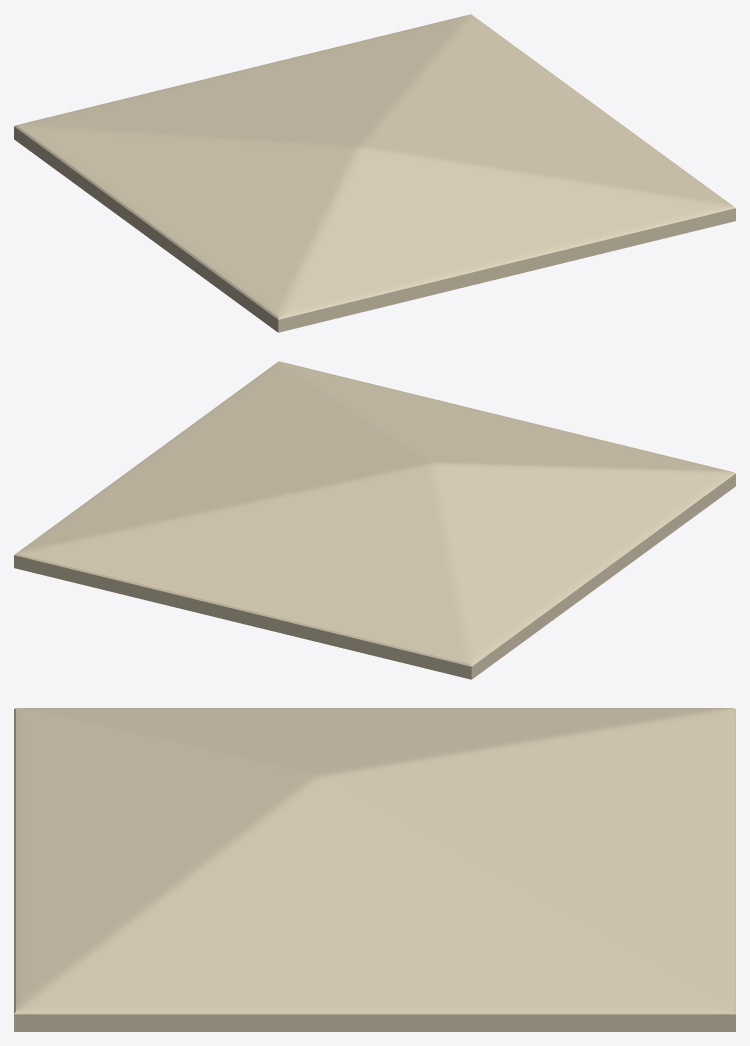
File: mahsulot.glb
3 renders of one model, top to bottom at view 1: azimuth 30°, elevation 25°; view 2: azimuth 150°, elevation 25°; view 3: azimuth 270°, elevation 25°, orthographic. The views are drawn at different scales.
Visible parts, largest first — view 1: mahsulot; view 2: mahsulot; view 3: mahsulot.
Part boxes in pixels (left/top/right/bottom): mahsulot: left=14, top=14, right=735, bottom=332; mahsulot: left=14, top=361, right=735, bottom=679; mahsulot: left=14, top=708, right=735, bottom=1031.
Size of the model in its own units: 0.5 by 0.0593 by 0.5.
